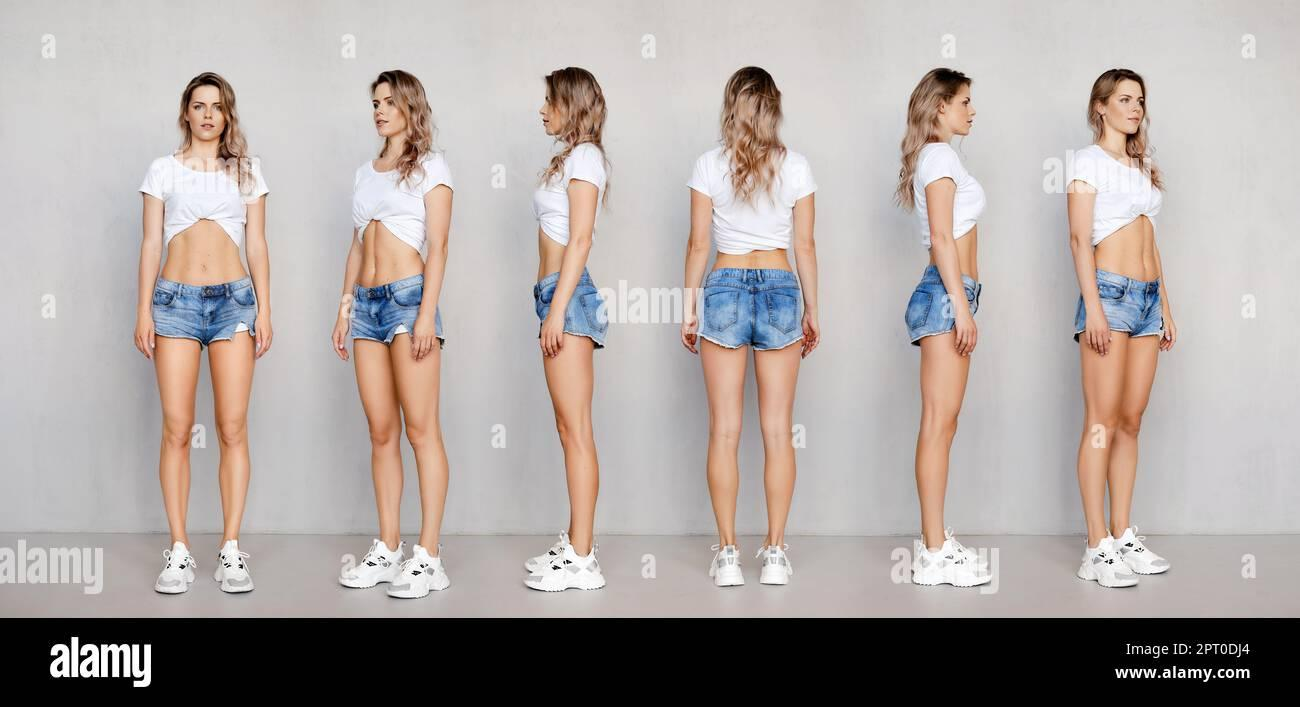Shorts: (693, 265, 809, 351), (145, 276, 263, 345), (1071, 267, 1172, 345), (347, 275, 446, 346), (900, 265, 984, 346), (533, 269, 611, 349)
short sleeve shirt: (685, 142, 819, 256), (138, 149, 272, 248), (347, 150, 454, 252), (1063, 143, 1163, 248), (906, 138, 986, 253), (530, 138, 609, 249)
